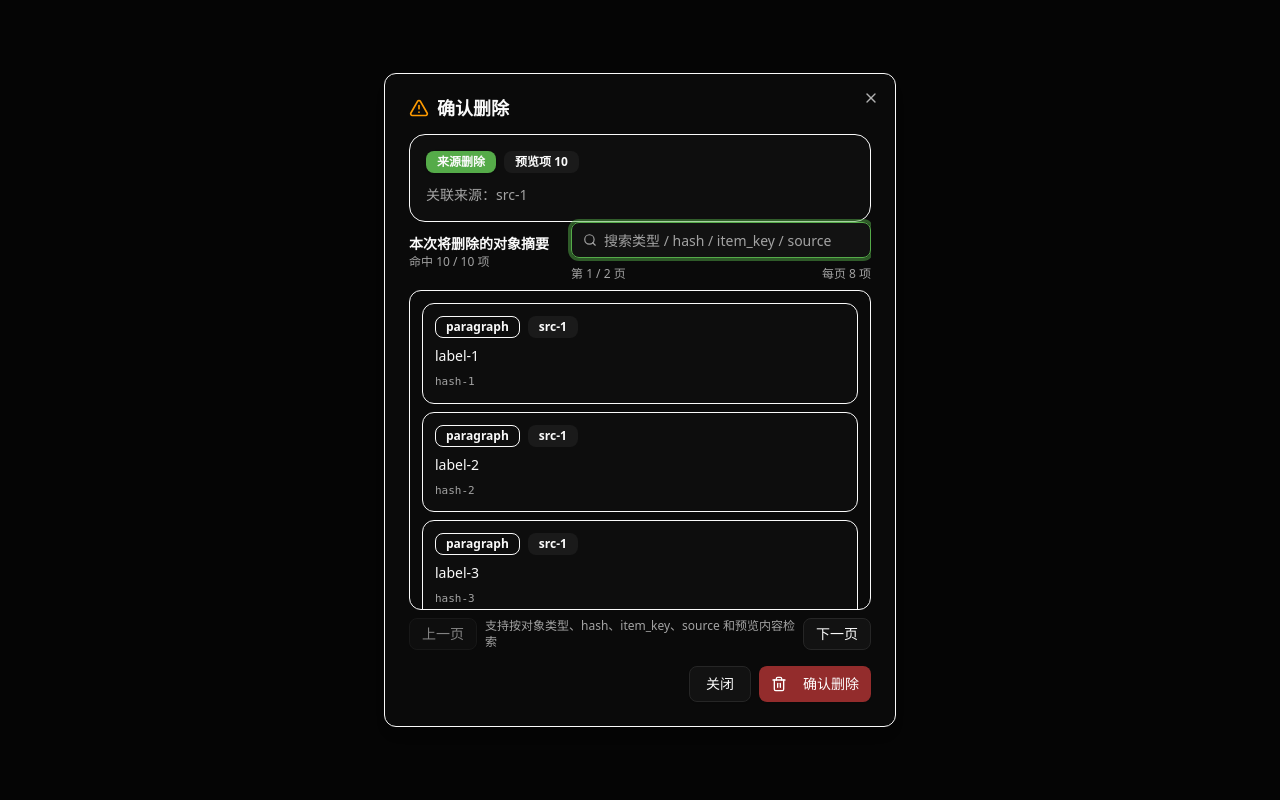
R4-2-14 MemoryDeleteDialog › 预览项搜索/分页：搜索命中数呈现、筛选变化重置页码（useClientSideList 驱动）
Expected: the text "第 1 / 2 页" is shown, [571, 266, 626, 282]
#  翻到第 2 页
Click the button "下一页".
click(837, 634)  # box [803, 618, 871, 650]
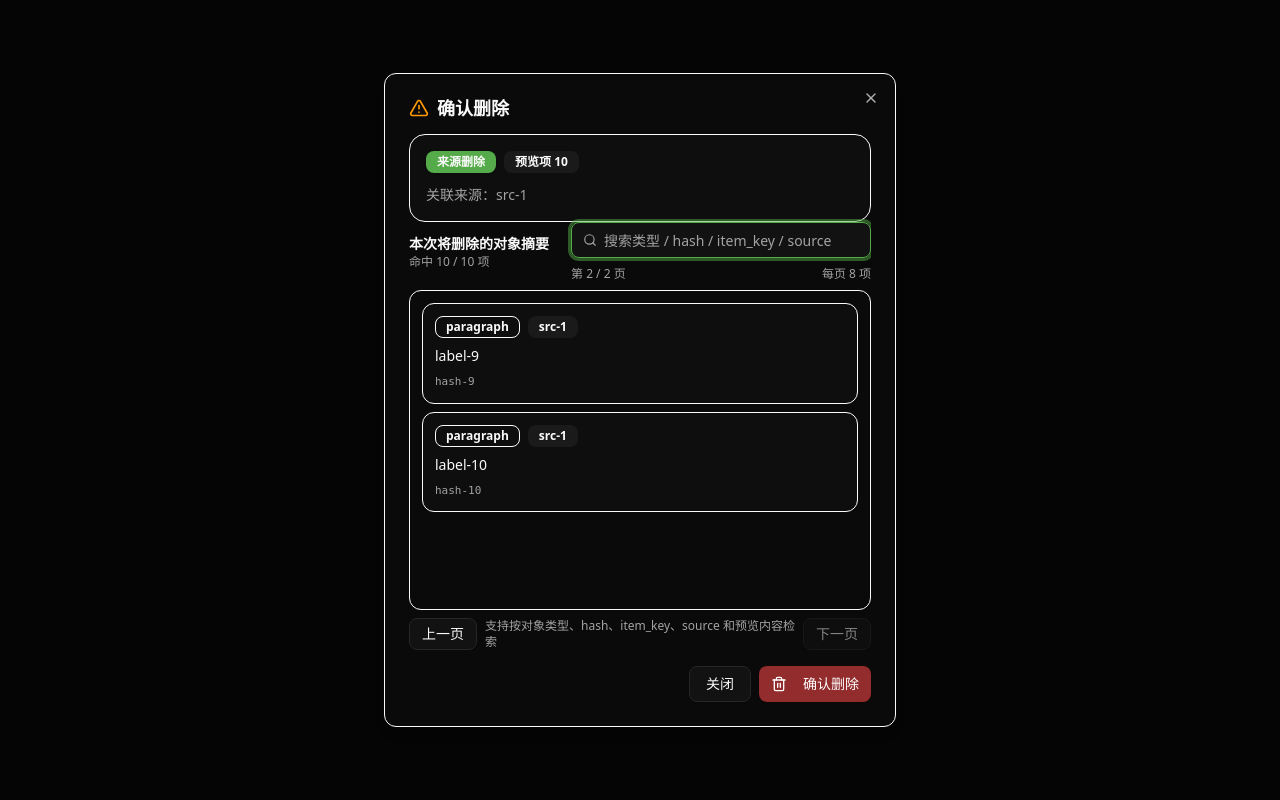
Expected: the text "第 2 / 2 页" is shown, [571, 266, 626, 282]
# 搜索变化 → 自动重置到第 1 页；命中 2 条（label-2 / hash-2 / key-2）
Type "key-2" into the field with placeholder "搜索类型 / hash / item_key / source".
click(721, 240); type("key-2")  # box [571, 222, 871, 258]
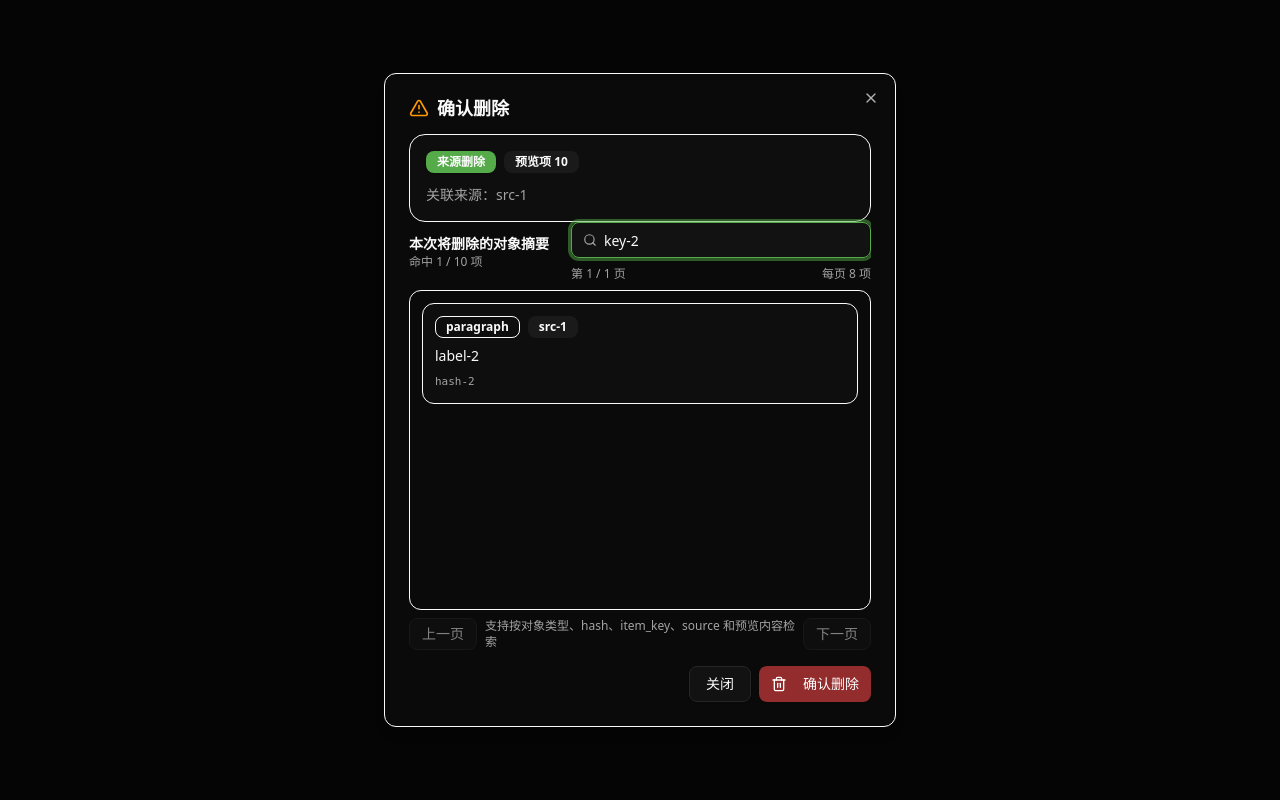
Expected: the text "第 1 / 1 页" is shown, [571, 266, 626, 282]
Expected: the text "命中 1 / 10 项" is shown, [409, 253, 483, 270]
Expected: the button "上一页" is disabled, [409, 618, 477, 650]
